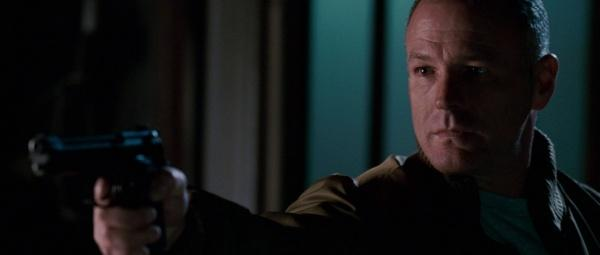Gun: (28, 132, 168, 250)
